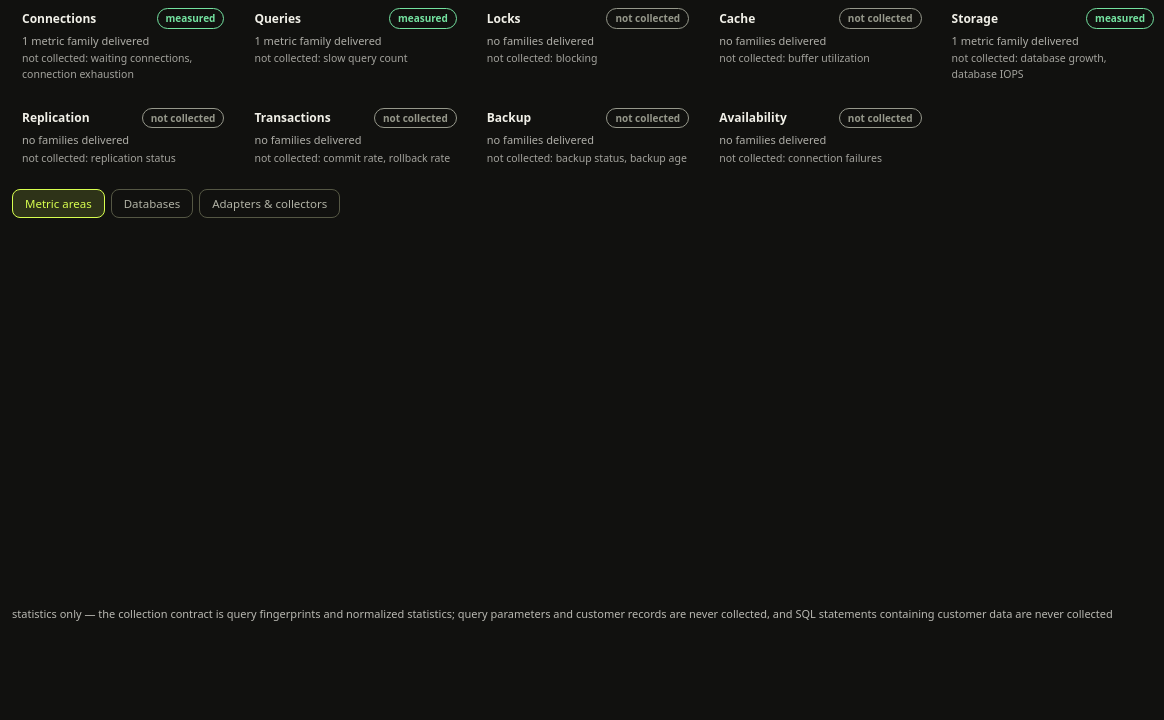
Test case: Database Performance workspace (§4) › keeps adapters as capability, not use
Step 1. Click the tab "Adapters & collectors" → (270, 203), box [199,188,340,218]
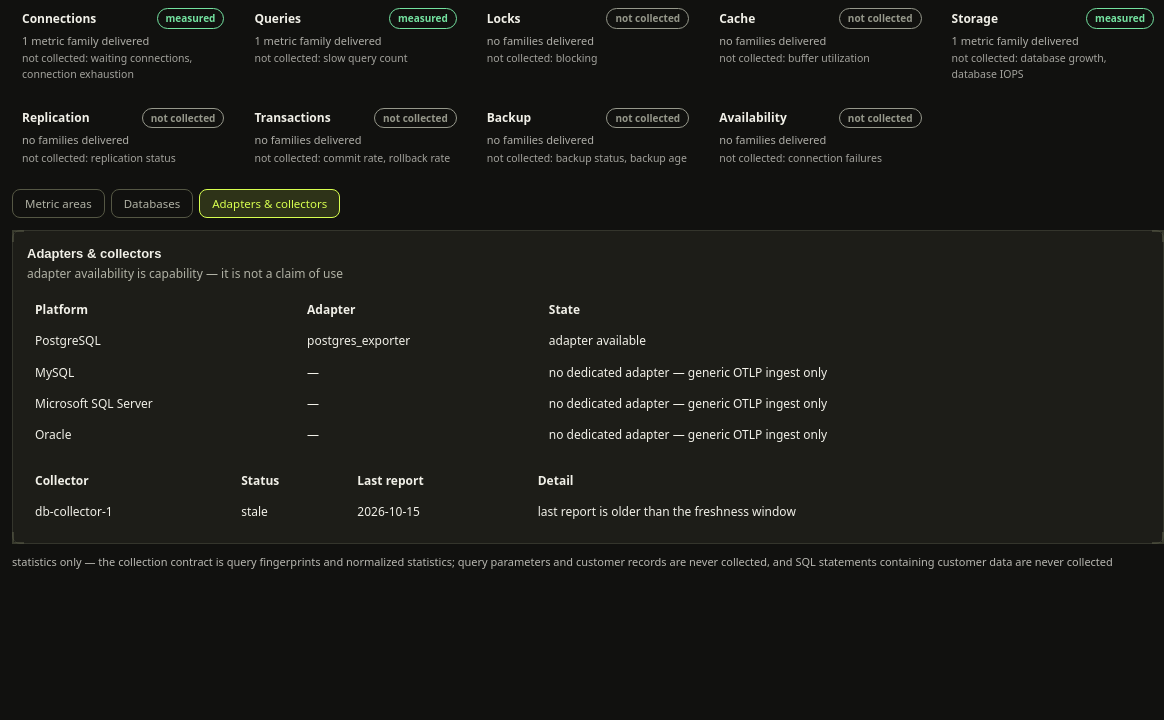
Check: the text "postgres_exporter" is shown, box [301,326,541,356]
Check: the text "capability — it is not a claim of use" is shown, box [27,265,343,282]
Check: the text "stale" is shown, box [235,497,349,526]
